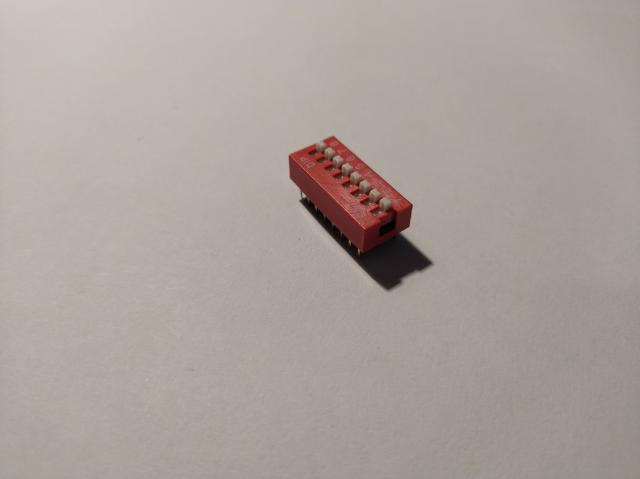dip_switch: (289, 137, 413, 260)
